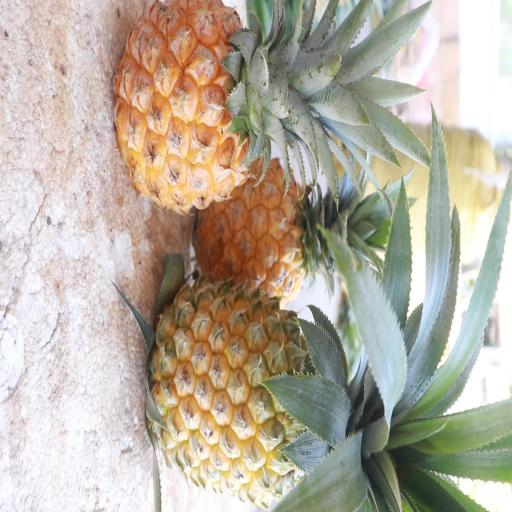Pineapple - v8 v1: (140, 273, 386, 504), (109, 0, 348, 217), (192, 148, 366, 310)
